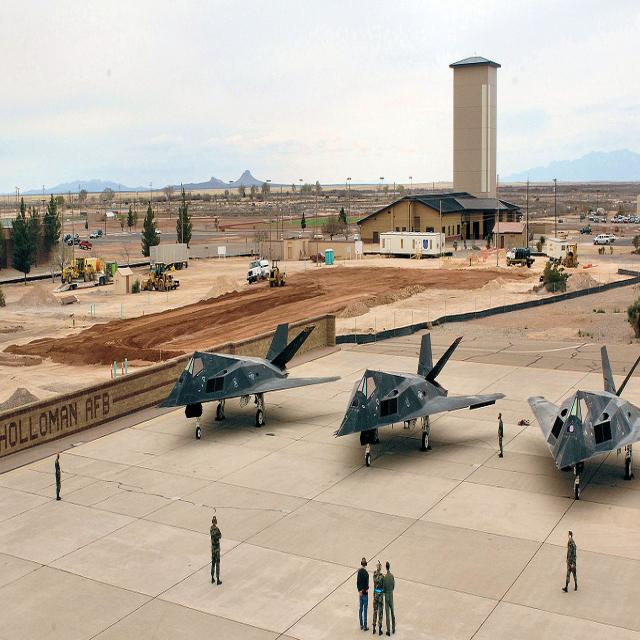MIL_Plane: (332, 330, 506, 469), (154, 321, 342, 440), (530, 344, 640, 500)
